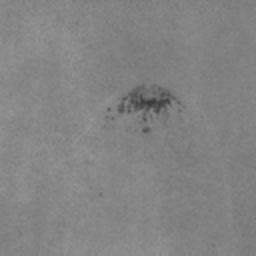Iron sheet ash: (117, 84, 181, 122), (142, 126, 151, 134)
